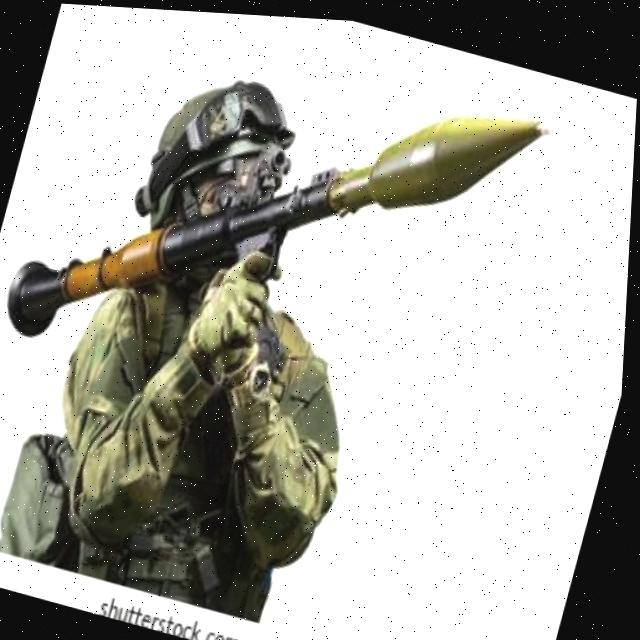rocket: (0, 1, 554, 456)
